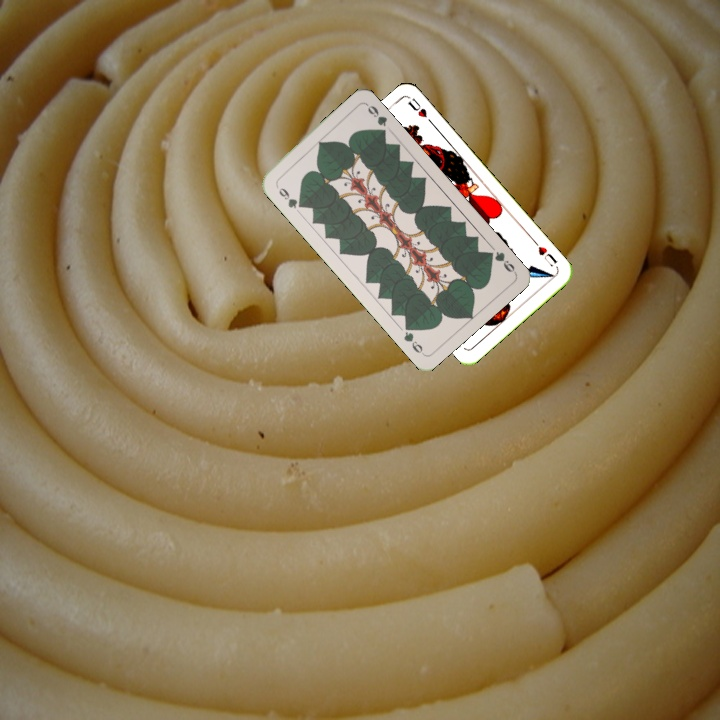G9: (272, 181, 306, 212), (482, 247, 518, 276)
HU: (534, 242, 559, 269)
